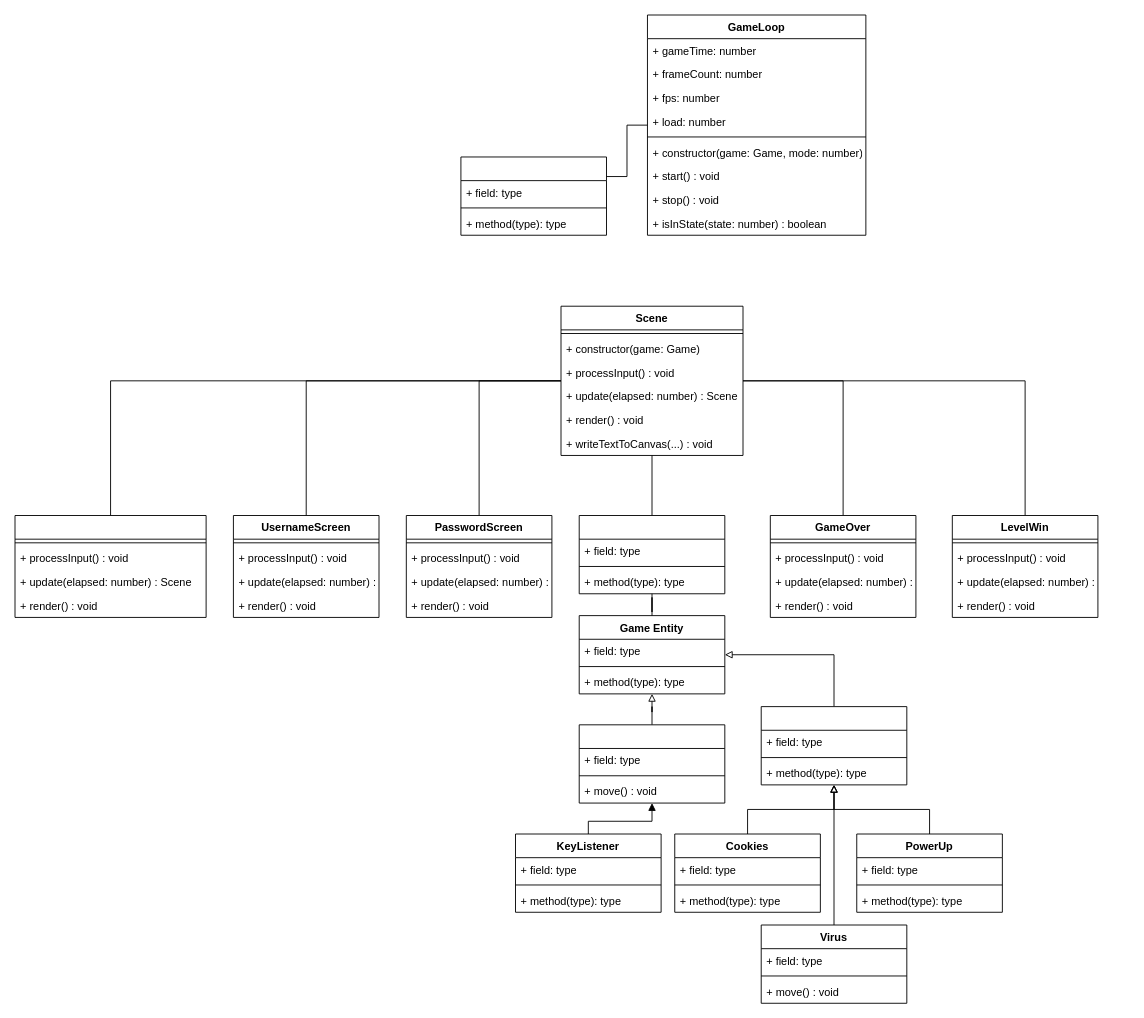
Some shapes in this 1144 by 1018 pixel diagram are drawn without their labels. The shapes that lost their labels are listed below. From the top down, each one's box as (x1, y1, x2, y2) in pixels, then its label:
(460, 156, 607, 235): Game
(14, 515, 206, 617): StartScreen
(578, 515, 725, 594): Level
(578, 724, 725, 803): Player
(760, 706, 907, 785): ScoringObject
